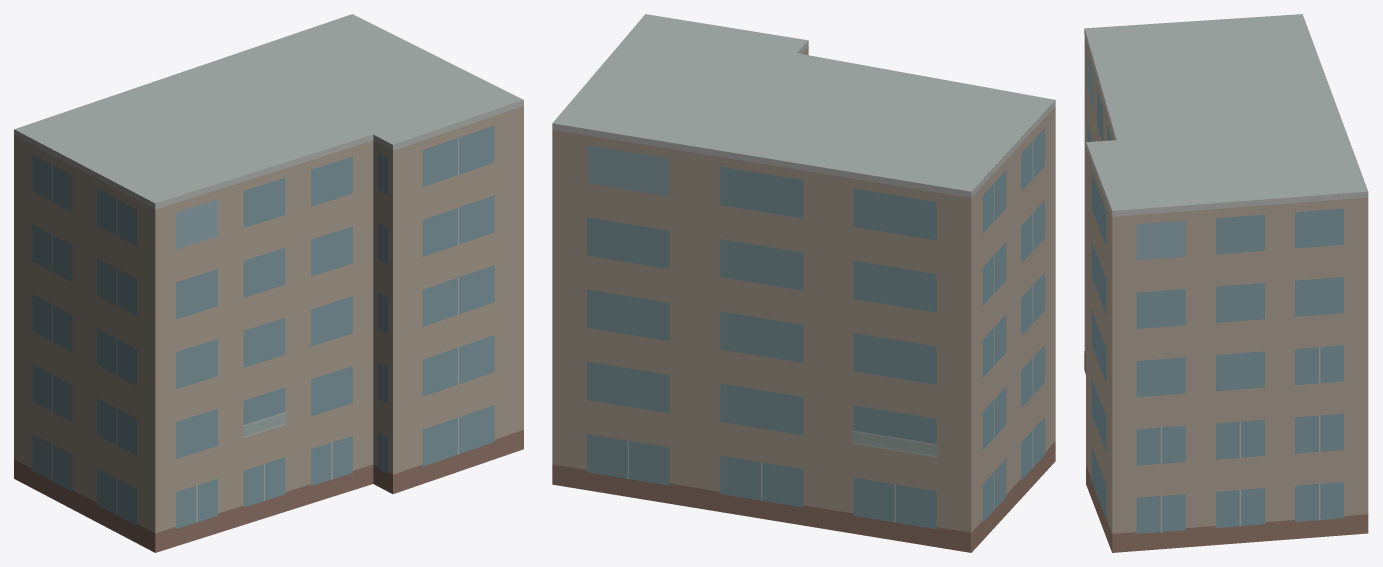
Rendered from survey-upis-32851397.glb.
3 renders of one model, left to right at view 1: azimuth 30°, elevation 25°; view 2: azimuth 150°, elevation 25°; view 3: azimuth 270°, elevation 25°, orthographic. The views are drawn at different scales.
Parts seen in each view (by area): view 1: survey-upis-32851397.tmp; view 2: survey-upis-32851397.tmp; view 3: survey-upis-32851397.tmp.
Part boxes in pixels (x1,y1,x2,y2): survey-upis-32851397.tmp: (14, 14, 523, 552); survey-upis-32851397.tmp: (552, 14, 1055, 552); survey-upis-32851397.tmp: (1084, 14, 1368, 552).
Bounding box in the file's own units: 17.43 × 14.1 × 10.62.
